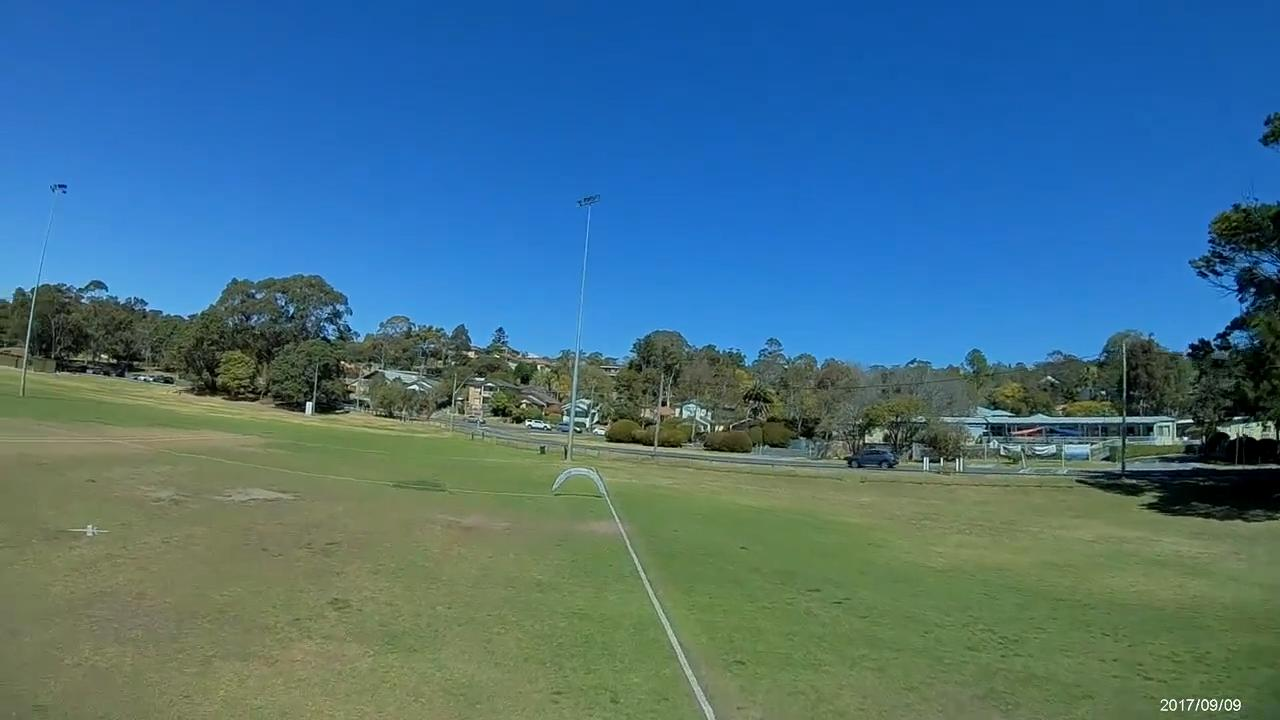gate: (552, 466, 603, 498)
